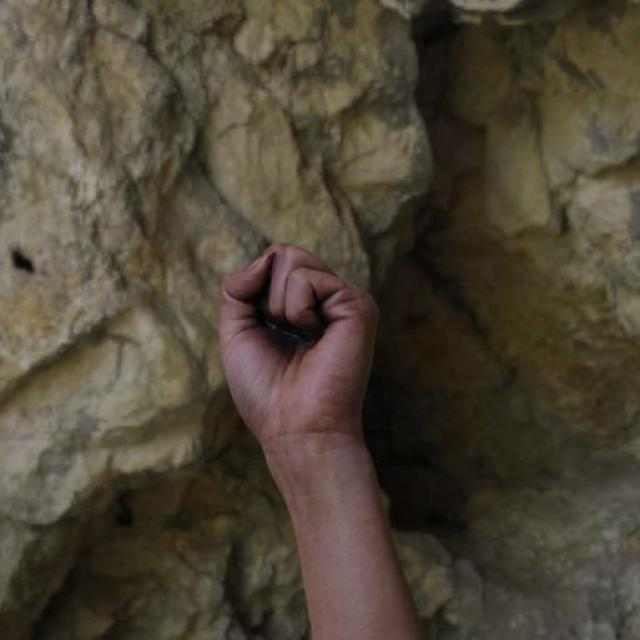S: (212, 235, 382, 454)
